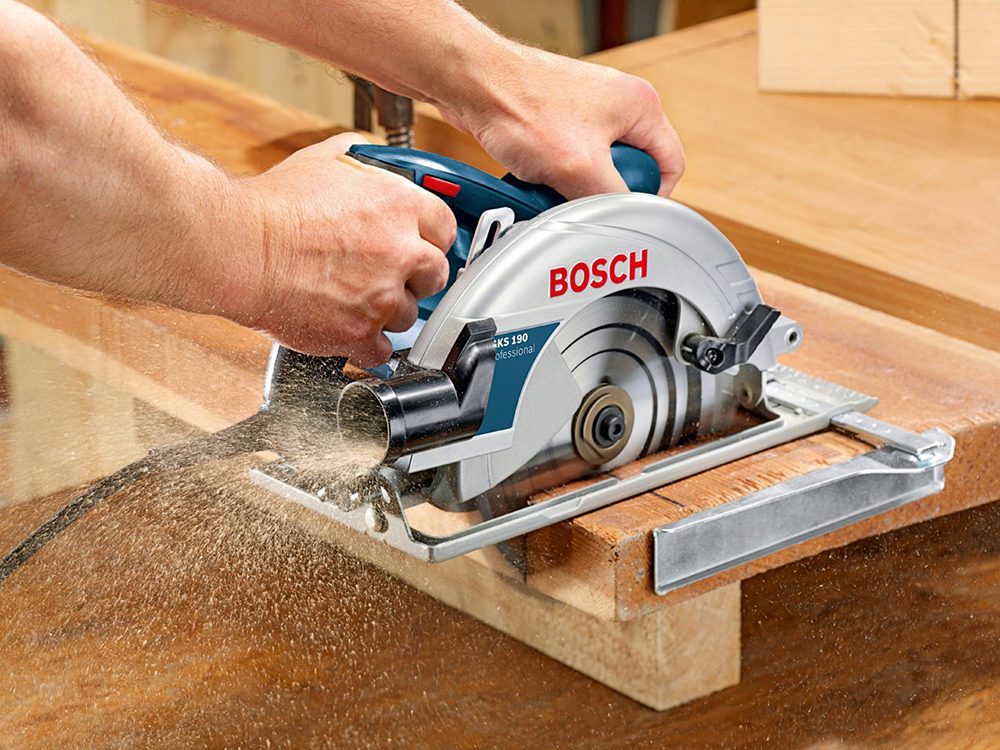Bosch: (543, 241, 655, 300)
